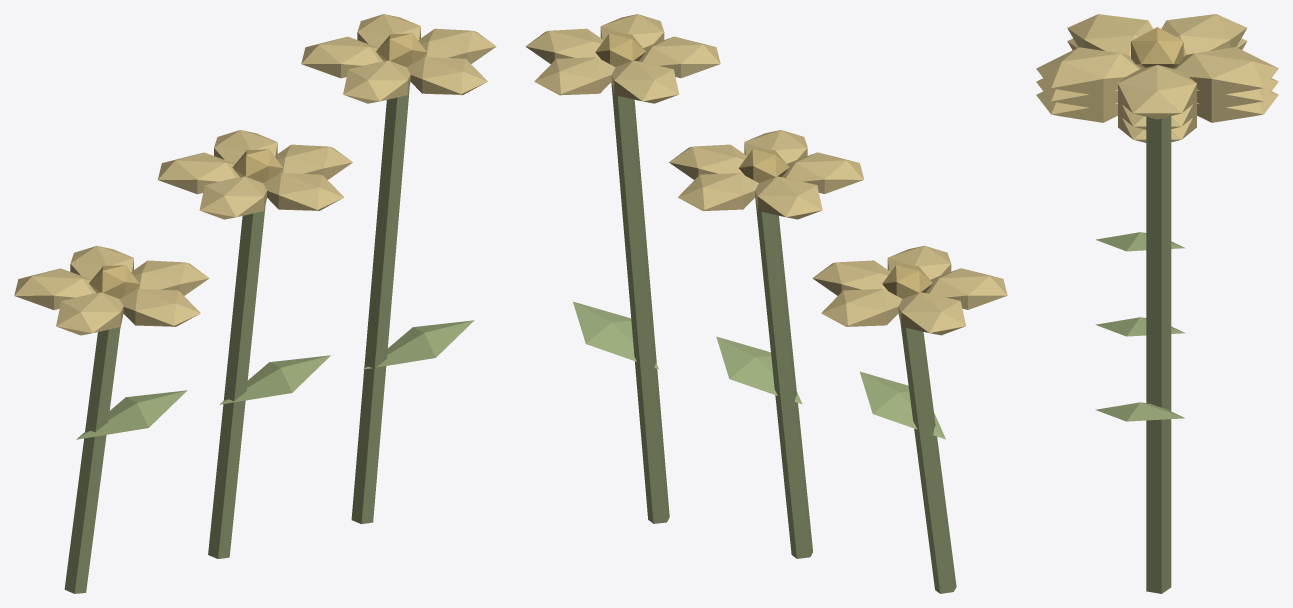
3 renders of one model, left to right at view 1: azimuth 30°, elevation 25°; view 2: azimuth 150°, elevation 25°; view 3: azimuth 270°, elevation 25°, orthographic. The views are drawn at different scales.
Parts seen in each view (by area): view 1: V08; view 2: V08; view 3: V08.
Boxes of the visible parts, box(x1,y1,x2,y2) form: V08: box(14, 14, 496, 593); V08: box(525, 14, 1007, 593); V08: box(1036, 14, 1278, 593).
Size of the model in its own units: 0.4092 by 0.4118 by 0.1568.
